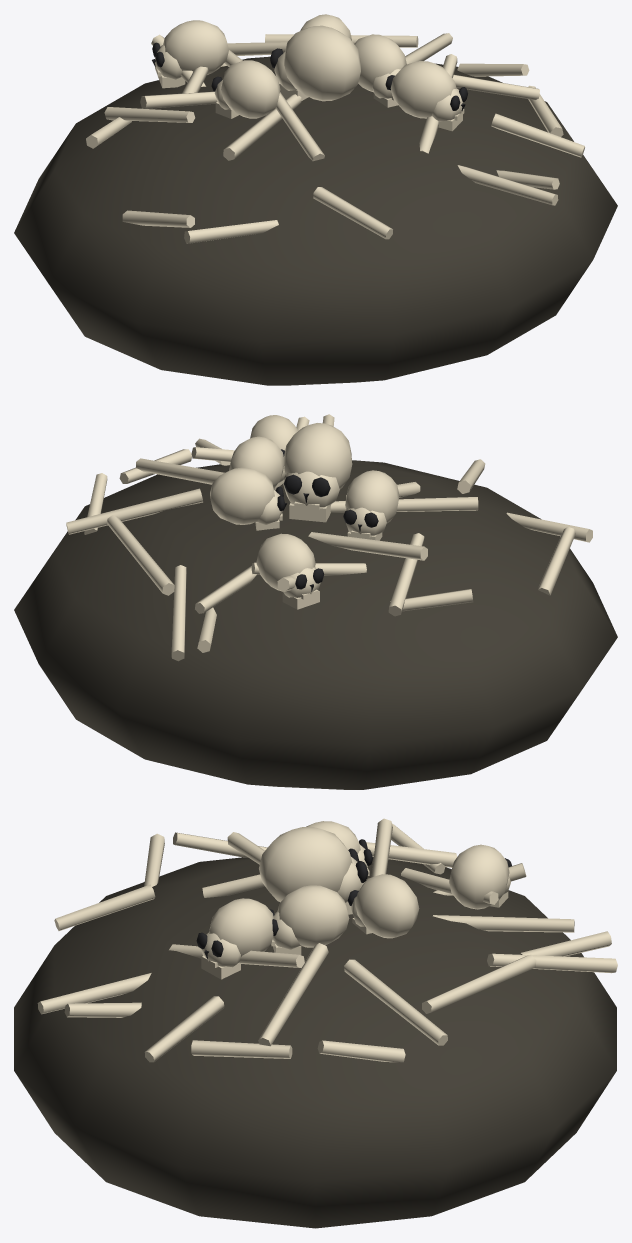
The model's file is BONE_PILE.glb.
3 renders of one model, top to bottom at view 1: azimuth 30°, elevation 25°; view 2: azimuth 150°, elevation 25°; view 3: azimuth 270°, elevation 25°, orthographic. The views are drawn at different scales.
Visible parts, largest first — view 1: concreteProp_0, bone_1, tread_2; view 2: concreteProp_0, bone_1, tread_2; view 3: concreteProp_0, bone_1, tread_2.
Boxes of the visible parts, x1,y1,x2,y2 form: concreteProp_0: [14, 56, 617, 385]; bone_1: [86, 14, 584, 243]; tread_2: [152, 42, 467, 111]; concreteProp_0: [14, 460, 617, 789]; bone_1: [66, 414, 592, 661]; tread_2: [276, 449, 378, 591]; concreteProp_0: [14, 857, 616, 1228]; bone_1: [37, 818, 617, 1062]; tread_2: [196, 839, 511, 958].
Size of the model in its own units: 2.7 by 1.52 by 2.43.
